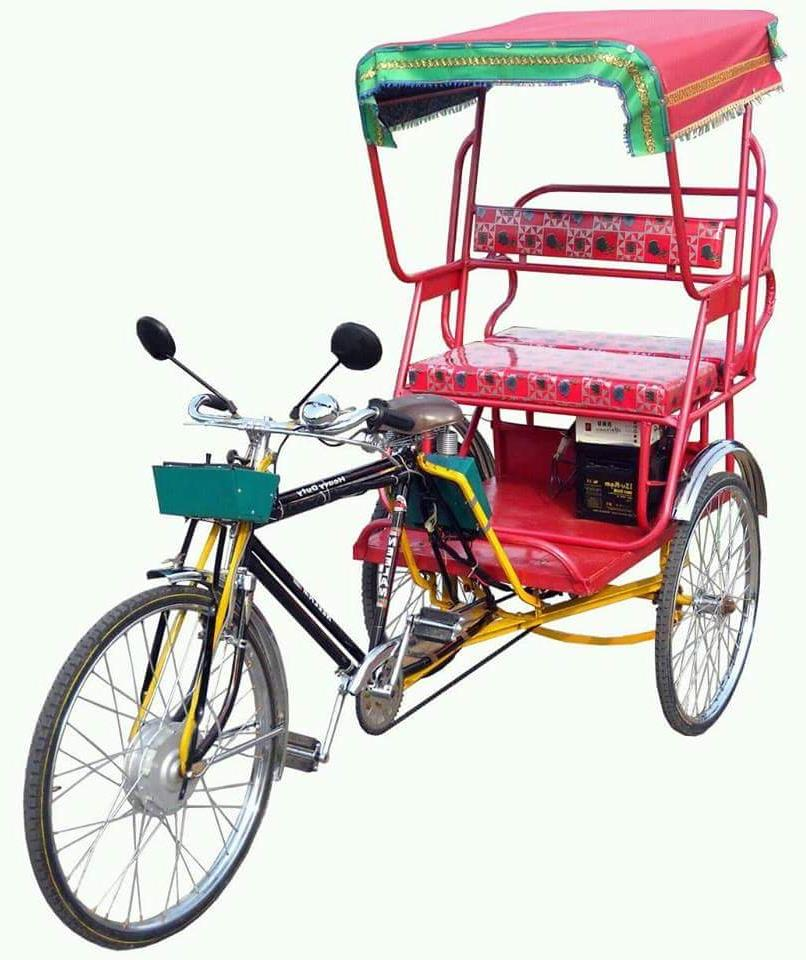Rickshaw: (21, 16, 779, 827)
